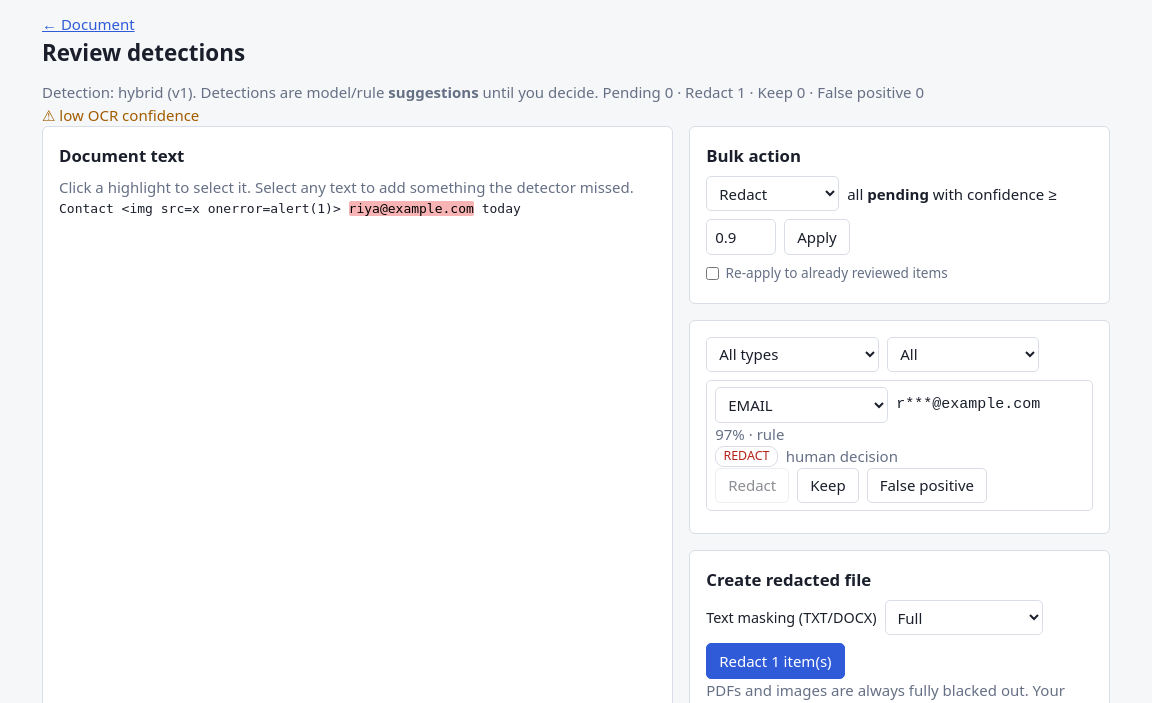
Test: review page › shows no download button when verification failed
Click the button "Redact 1 item(s)".
click(775, 661)  # box [706,643,845,679]
(page scrolled)
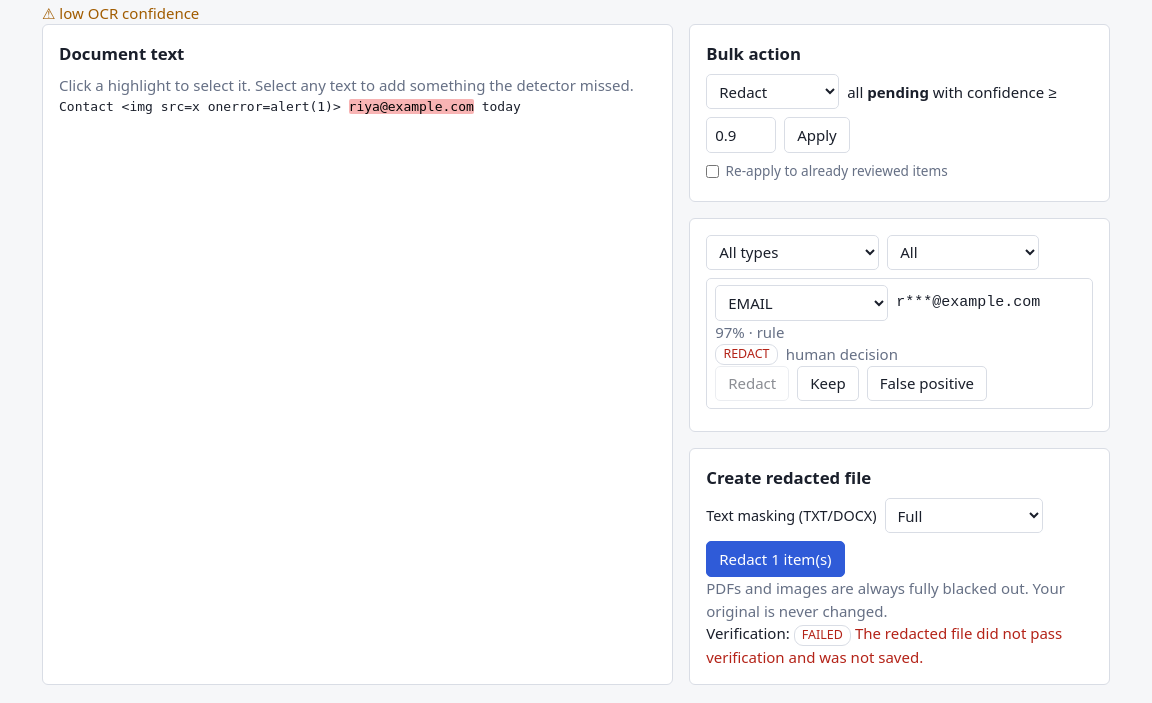
Check: the text "did not pass verification" is shown, box [706,623,1062,667]
